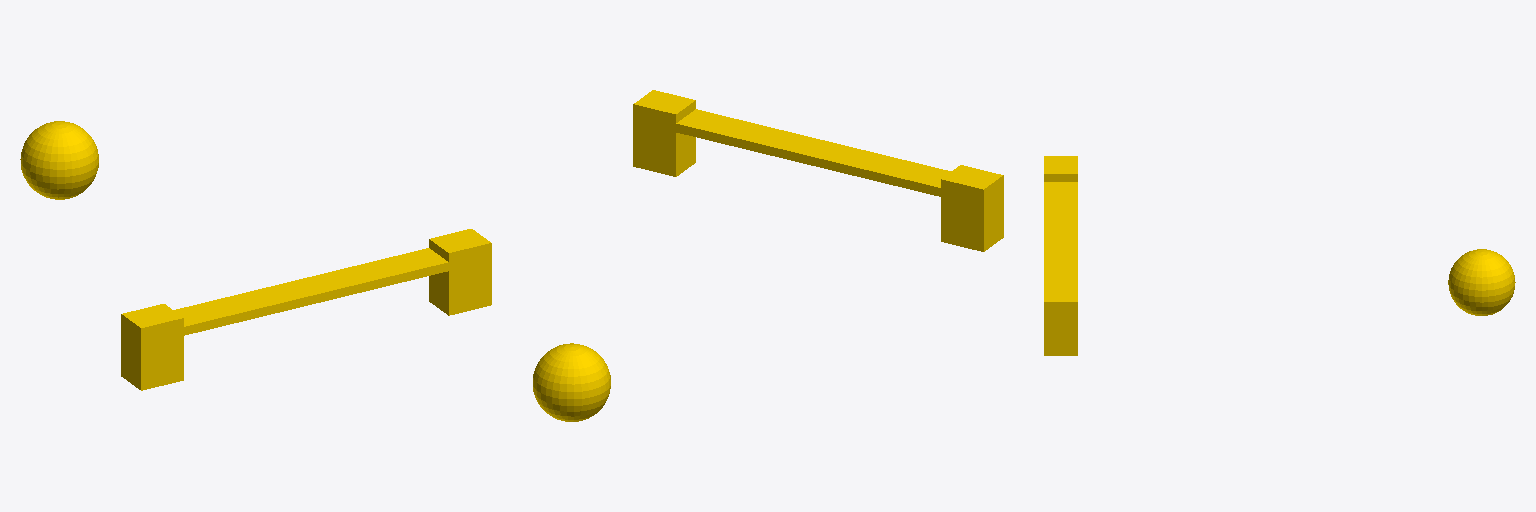
The robot description file, URDF, robot "gate":
<?xml version="1.0" ?>
<robot name = "gate">


    <link name = "base_left">
        <visual>
            <origin xyz = "-0.9 0 0.175" rpy = "0 0 0"/>
 
            <geometry>
                <box size = "0.25 0.2 0.35"/>
            </geometry>
            <material name = "red">
                <color rgba = "1.0 0.8431372549019608 0.0 0"/>
            </material>    
        </visual>
        <collision>
            <origin xyz = "-0.9 0 0.175" rpy = "0 0 0"/>
            <geometry>
                <box size = "0.25 0.2 0.35"/>
            </geometry>
            <!-- <origin xyz = "-0.9 0 0.15" rpy = "0 0 0"/> -->
        </collision>
        <inertial>
            <mass value="20"/>
            <inertia ixx="0.01" ixy="0.0" ixz="0.0" iyy="0.01" iyz="0.0" izz="0.01"/>
          </inertial>
      
    </link> 


    <link name = "base_up">
        <visual>
            <origin xyz = "0 0 0.275" rpy = "0 0 0"/>
            <geometry>
                <box size = "1.8 0.2 0.05"/>
            </geometry>
            <!-- <origin xyz = "0 0 0.275" rpy = "0 0 0"/> -->
            <material name = "red">
                <color rgba = "1.0 0.8431372549019608 0.0 0"/>
            </material>    

        </visual>
        <collision>
            <origin xyz = "0 0 0.275" rpy = "0 0 0"/>
            <geometry>
                <box size = "1.8 0.2 0.05"/>
            </geometry>
            <!-- <origin xyz = "0 0 0.275" rpy = "0 0 0"/> -->
        </collision>
        <inertial>
            <mass value="20"/>
            <inertia ixx="0.01" ixy="0.0" ixz="0.0" iyy="0.01" iyz="0.0" izz="0.01"/>
          </inertial>
      
    </link> 


    <joint name = "base_ji_left" type = 'fixed'>
        <parent link = "base_left"/>
        <child link = "base_up"/>
        <origin xyz = "0 0 0" rpy = "0 0 0"/>
    </joint>

    <link name = "base_right">
        <visual>
            <origin xyz = "0.9 0 0.175" rpy = "0 0 0"/>
            <geometry>
                <box size = "0.25 0.2 0.35"/>
            </geometry>
            <material name = "red">
                <color rgba = "1.0 0.8431372549019608 0.0 0"/>
            </material>    
            <!-- <origin xyz = "0.9 0 0.15" rpy = "0 0 0"/> -->
        </visual>
        <collision>
            <origin xyz = "0.9 0 0.175" rpy = "0 0 0"/>
            <geometry>
                <box size = "0.25 0.2 0.35"/>
            </geometry>
            
        </collision>
        <inertial>
            <mass value="20"/>
            <inertia ixx="0.01" ixy="0.0" ixz="0.0" iyy="0.01" iyz="0.0" izz="0.01"/>
          </inertial>
      
    </link> 

    <joint name = "base_ji_right" type = 'fixed'>
        <parent link = "base_up"/>
        <child link = "base_right"/>
        <origin xyz = "0 0 0" rpy = "0 0 0"/>
    </joint>

  <link name="ball">
    <visual>
      <origin xyz="0 2.5 0"/>
      <geometry>
        <sphere radius="0.2"/>
      </geometry>
            <material name = "red">
                <color rgba = "1.0 0.8431372549019608 0.0 0"/>
            </material>    
    </visual>
    <collision>
      <origin xyz="0 2.5 0"/>
      <geometry>
        <sphere radius="0.2"/>
      </geometry>
    </collision>
    <inertial>
      <mass value="0.5"/>
      <inertia ixx="0.01" ixy="0.0" ixz="0.0" iyy="0.01" iyz="0.0" izz="0.01"/>
    </inertial>
  </link>


    <joint name = "base_ji_back" type = 'fixed'>
        <parent link = "base_up"/>
        <child link = "ball"/>
        <origin xyz = "0 0 0" rpy = "0 0 0"/>
    </joint>

    


</robot>

--- What the picture shows (computed from the rendered views, not written in the file) ---
Views: 3 orthographic renders of the robot side by side, from view 1: azimuth 30°, elevation 25°; view 2: azimuth 150°, elevation 25°; view 3: azimuth 270°, elevation 25°.
Model gate with 4 links and 3 joints (3 fixed), rooted at base_left, posed all joints at 0.
Links seen in each view (by area): view 1: base_up, ball, base_left, base_right; view 2: base_up, ball, base_left, base_right; view 3: ball, base_up, base_right, base_left.
Boxes of the visible links, x1,y1,x2,y2 form: base_up: (163, 248, 469, 340); ball: (20, 121, 98, 199); base_left: (121, 304, 183, 390); base_right: (429, 229, 491, 315); base_up: (655, 109, 958, 196); ball: (533, 343, 610, 421); base_left: (941, 165, 1003, 251); base_right: (633, 90, 695, 176); ball: (1448, 249, 1515, 315); base_up: (1044, 182, 1077, 283); base_right: (1044, 284, 1077, 355); base_left: (1044, 156, 1077, 181).
Bounding box of the posed robot: 2.05 × 2.8 × 0.55 m (x, y, z).
Geometry: primitives only (box / cylinder / sphere), no mesh files.